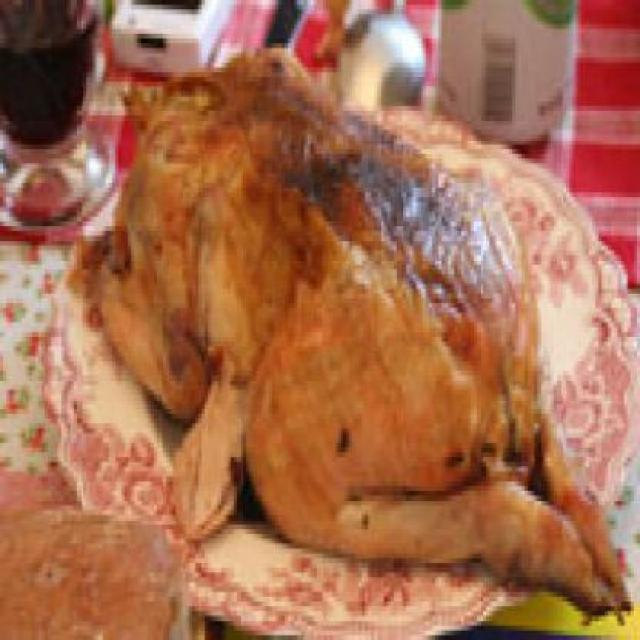Chicken roast: (80, 57, 628, 597)
